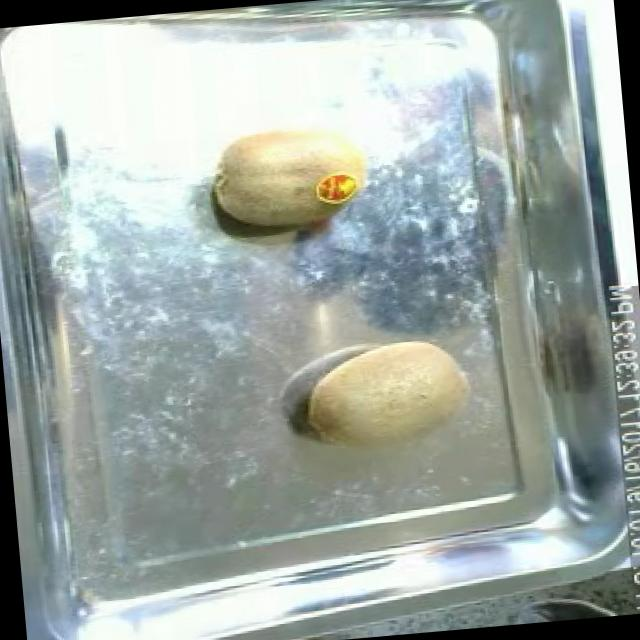Fruit: (290, 326, 487, 476), (196, 109, 384, 248)
